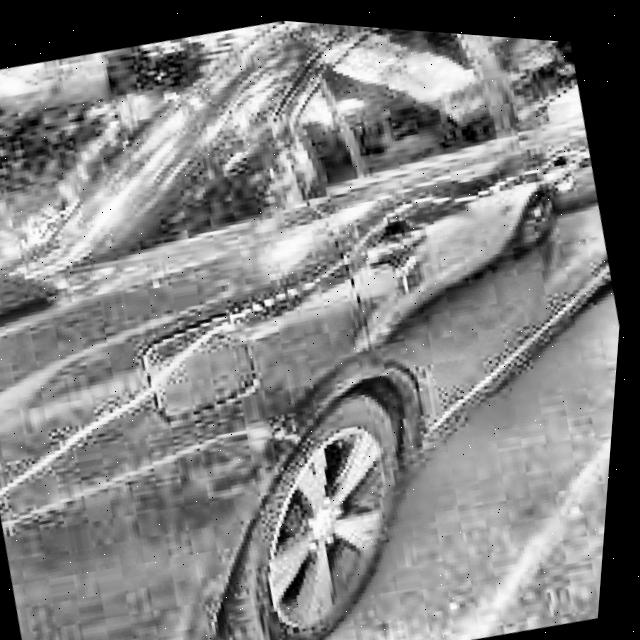door_scratch: (389, 127, 596, 241), (204, 228, 378, 349)
